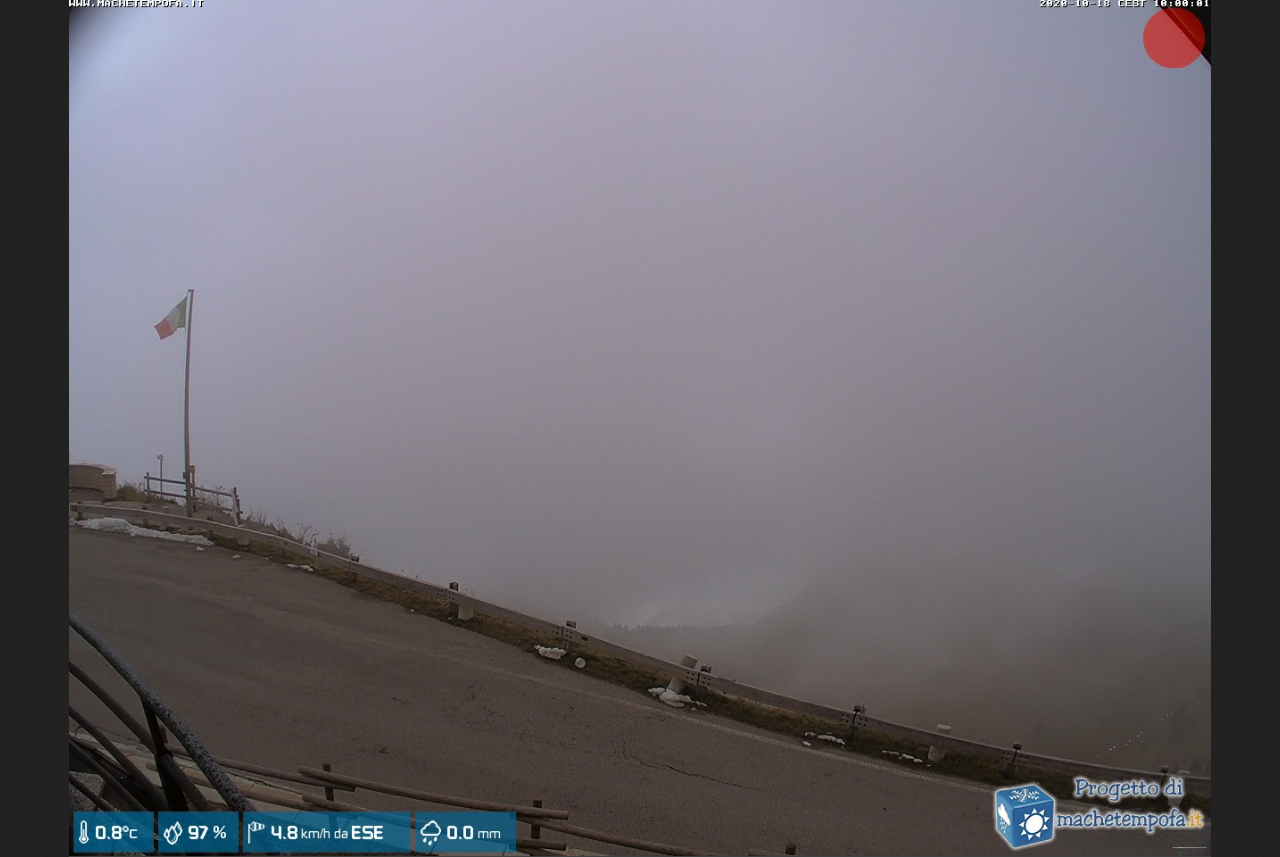maybe: (151, 299, 189, 343)
